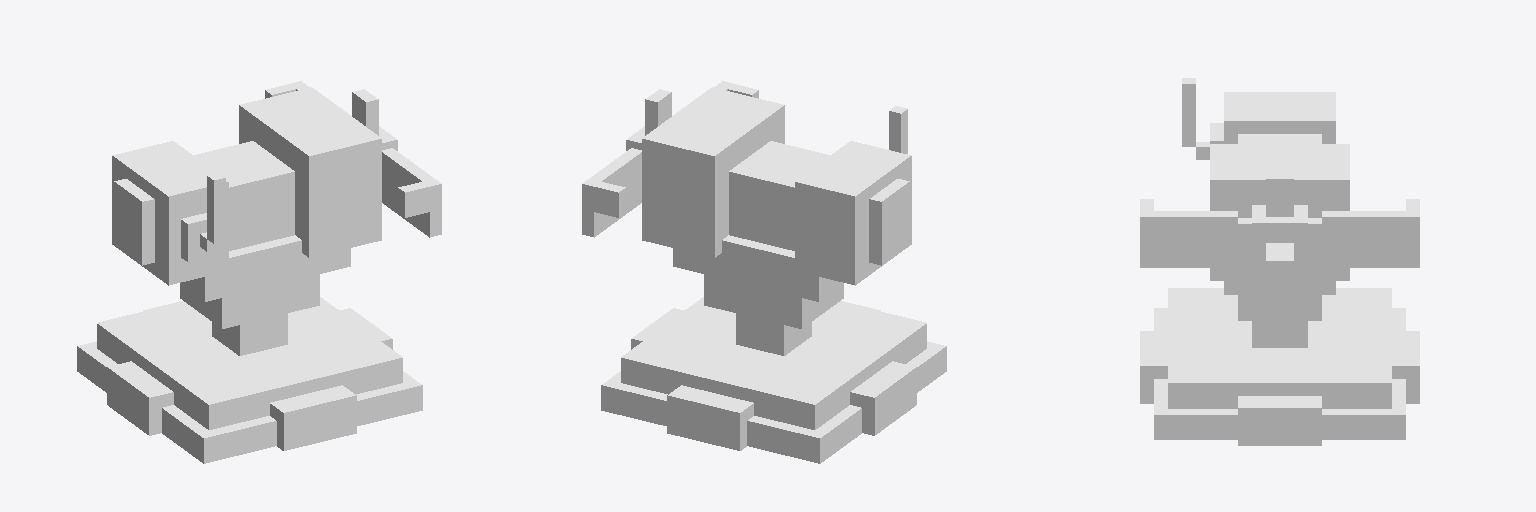
The model's file is Turret(Tower_Defens)-6.obj.
3 views of the same model, side by side, from view 1: azimuth 30°, elevation 25°; view 2: azimuth 150°, elevation 25°; view 3: azimuth 270°, elevation 25° (orthographic).
Parts seen in each view (by area): view 1: default; view 2: default; view 3: default.
Boxes of the visible parts, x1=… form: default: x1=77, y1=81, x2=441, y2=463; default: x1=582, y1=81, x2=946, y2=463; default: x1=1140, y1=78, x2=1419, y2=445.
Bounding box in the file's own units: 2.1 × 2.1 × 2.